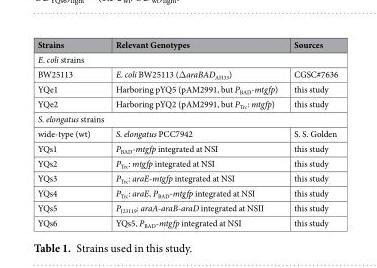table: (36, 37, 337, 229)
table column: (102, 37, 285, 229), (36, 37, 102, 229), (285, 37, 337, 229)
table column header: (36, 37, 337, 51)
table projected row header: (36, 51, 337, 66), (36, 111, 337, 125)
table row: (36, 51, 337, 66), (36, 66, 337, 81), (36, 81, 337, 96), (36, 96, 337, 111), (36, 125, 337, 140), (36, 140, 337, 155), (36, 155, 337, 170), (36, 170, 337, 185), (36, 185, 337, 200), (36, 200, 337, 215), (36, 37, 337, 51), (36, 111, 337, 125), (36, 215, 337, 229)
